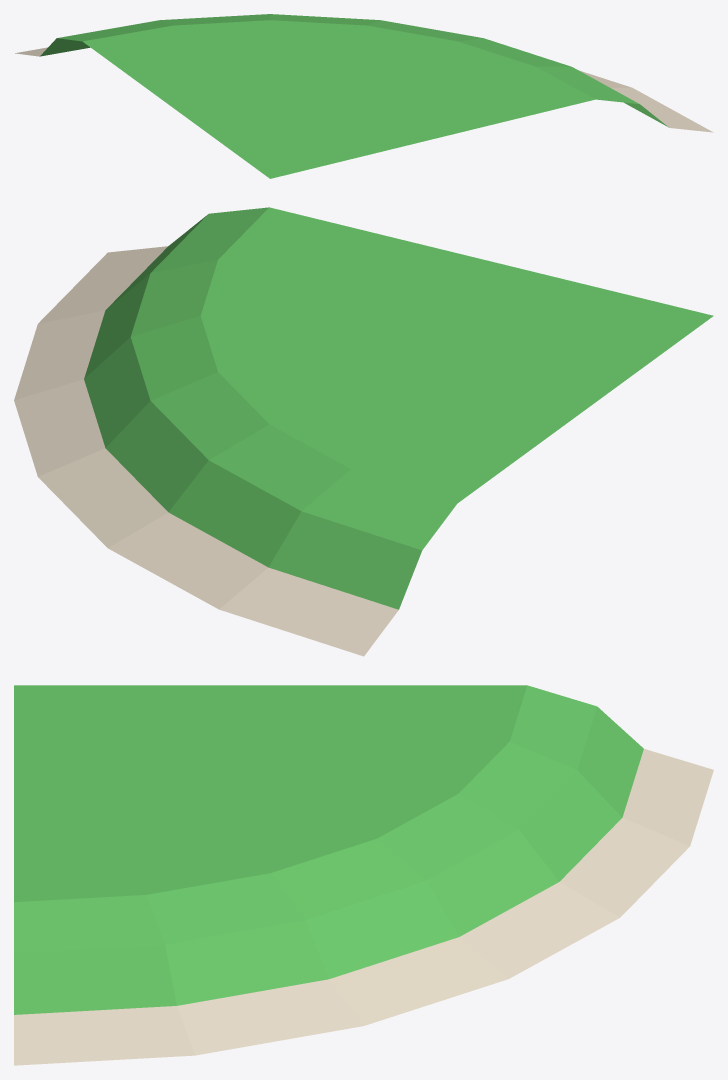
Rendered from Hilly_Terrain_Path_Corner_Inner_2x2.glb.
3 renders of one model, top to bottom at view 1: azimuth 30°, elevation 25°; view 2: azimuth 150°, elevation 25°; view 3: azimuth 270°, elevation 25°, orthographic. The views are drawn at different scales.
Visible parts, largest first — view 1: Hilly_Terrain_Path_Corner_Inner_2x2; view 2: Hilly_Terrain_Path_Corner_Inner_2x2; view 3: Hilly_Terrain_Path_Corner_Inner_2x2.
Part boxes in pixels (x1,y1,x2,y2): Hilly_Terrain_Path_Corner_Inner_2x2: (15, 14, 713, 178); Hilly_Terrain_Path_Corner_Inner_2x2: (14, 207, 713, 656); Hilly_Terrain_Path_Corner_Inner_2x2: (14, 685, 713, 1065).
Bounding box in the file's own units: 0.795 × 0.106 × 0.795.
